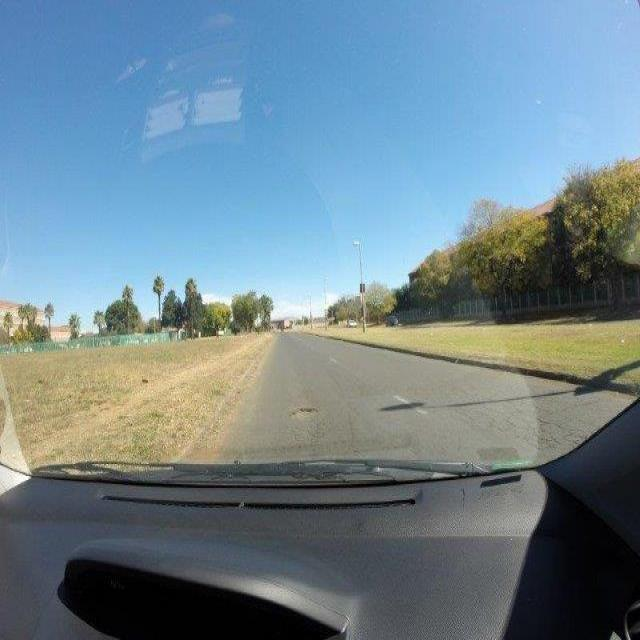lubang: (286, 402, 320, 418)
